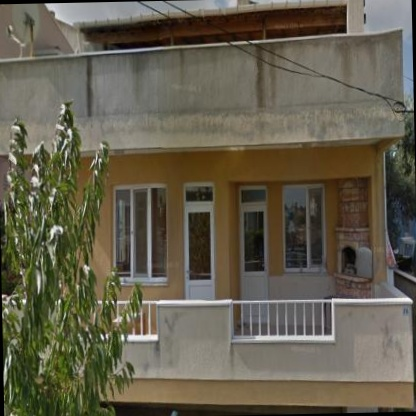door: (182, 206, 215, 299), (239, 207, 268, 301)
